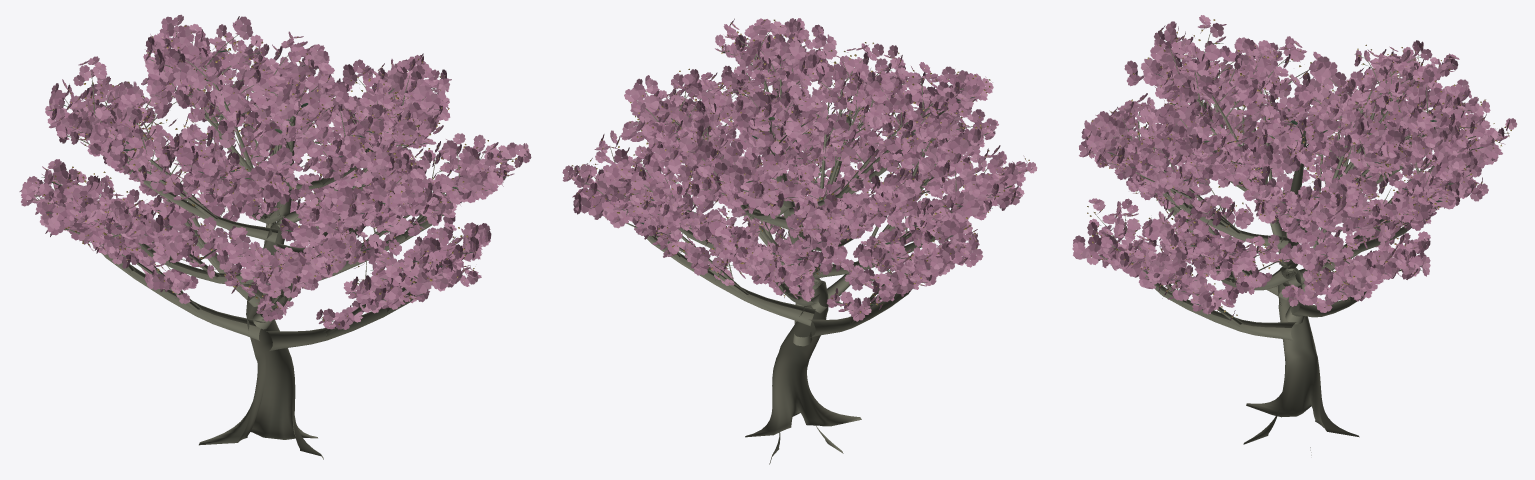
The picture shows the model from 3 angles, left to right: view 1: azimuth 30°, elevation 25°; view 2: azimuth 150°, elevation 25°; view 3: azimuth 270°, elevation 25°; orthographic projection. The views are drawn at different scales.
Visible parts, largest first — view 1: leaves, branches; view 2: leaves, branches; view 3: leaves, branches.
Part boxes in pixels (x1,y1,x2,y2): leaves: (19, 14, 531, 329); branches: (33, 31, 515, 459); leaves: (562, 18, 1037, 321); branches: (575, 29, 1021, 464); leaves: (1072, 15, 1517, 320); branches: (1091, 32, 1509, 455).
Bounding box in the file's own units: 9.12 × 7.91 × 8.83.
